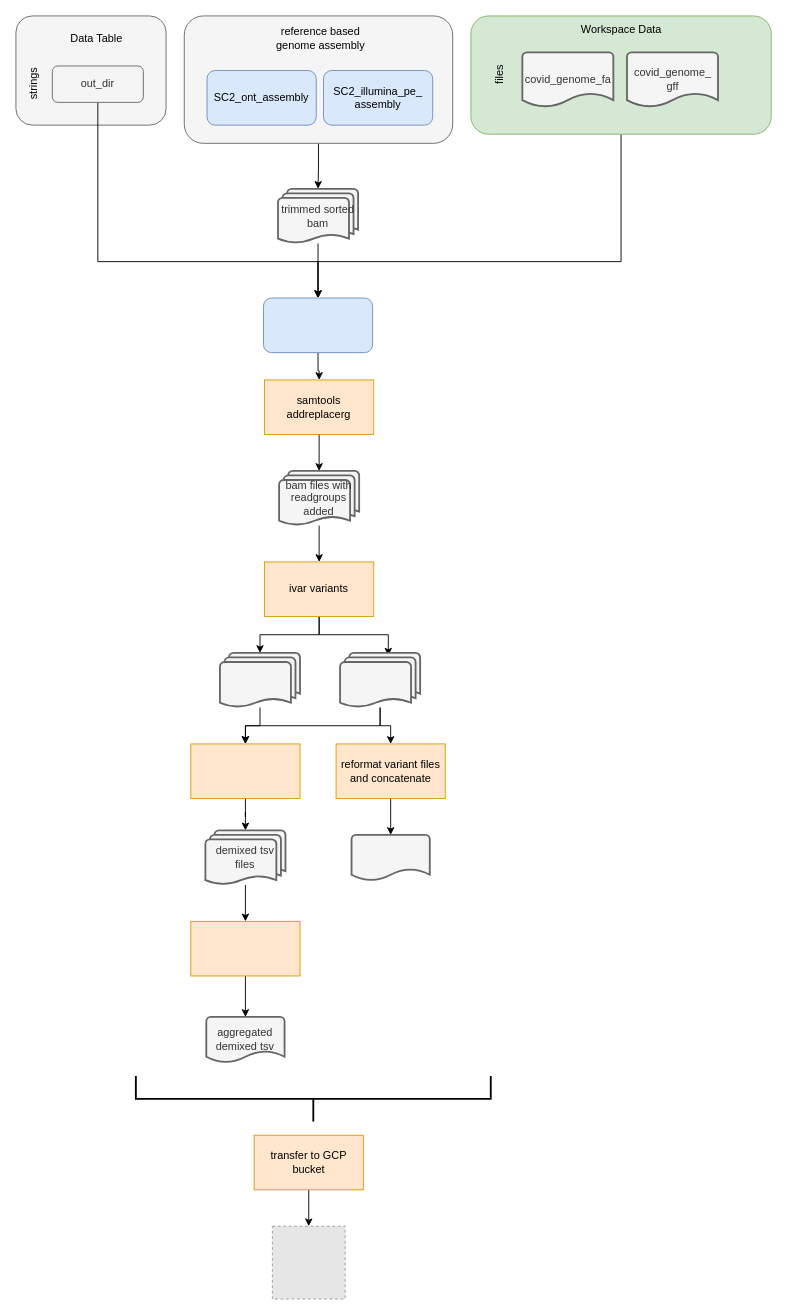
The diagram is 787 pixels wide and 1315 high, and some of its shapes have lost their labels. Grey dashed boxes stand in for pictures. Each missing label, with the centre of its shape:
"combined mutations tsv" belongs at [390,857].
"depth tsv" belongs at [259,680].
"freyja aggregate" belongs at [245,948].
"freyja demix" belongs at [245,771].
"SC2_wastewater_ variant_ calling workflow" belongs at [318,325].
"variant tsv" belongs at [380,680].
